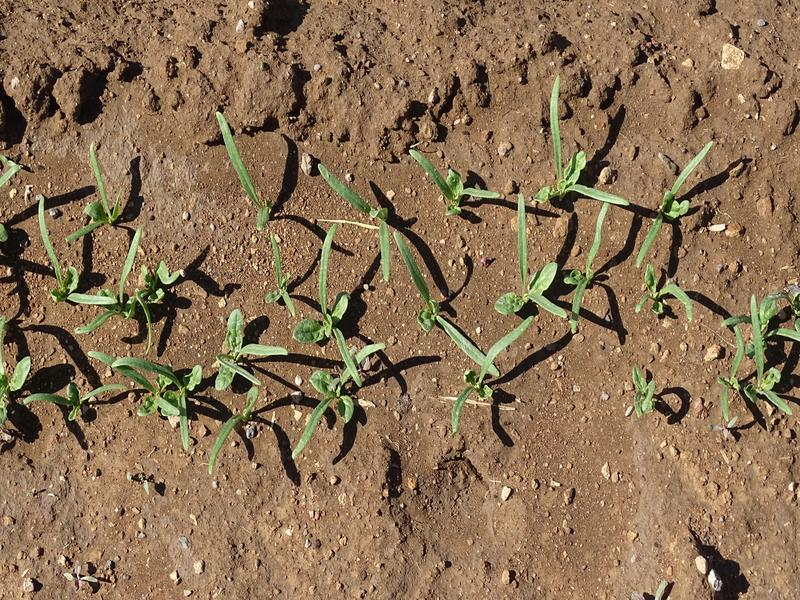Espinaca: (6, 128, 708, 430), (715, 284, 800, 422)
